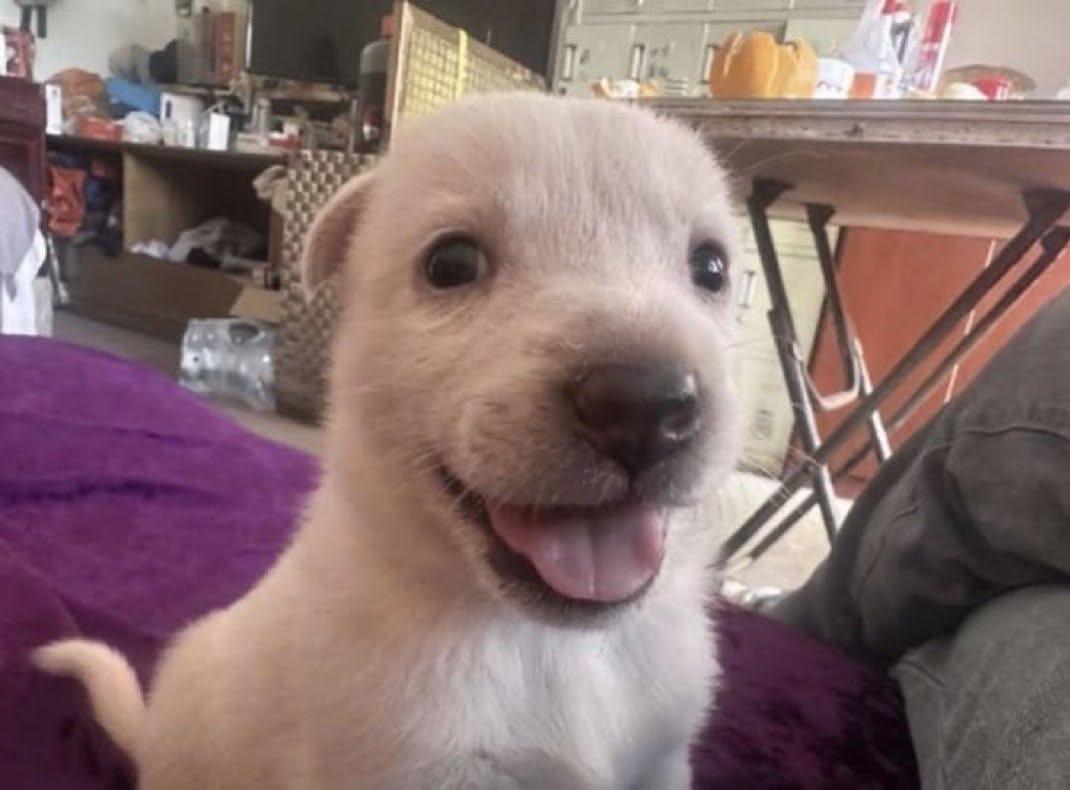puppy-dog: (27, 89, 742, 790)
